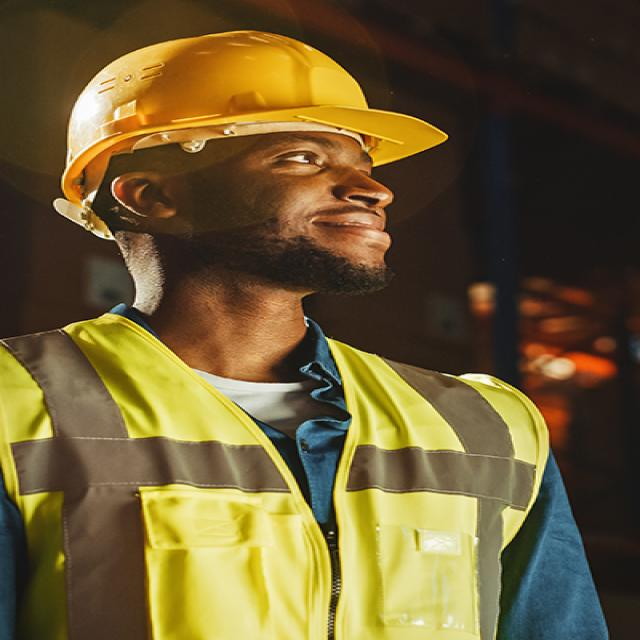helmet: (28, 23, 450, 197)
no-goggles: (123, 137, 404, 196)
vest: (0, 310, 554, 639)
